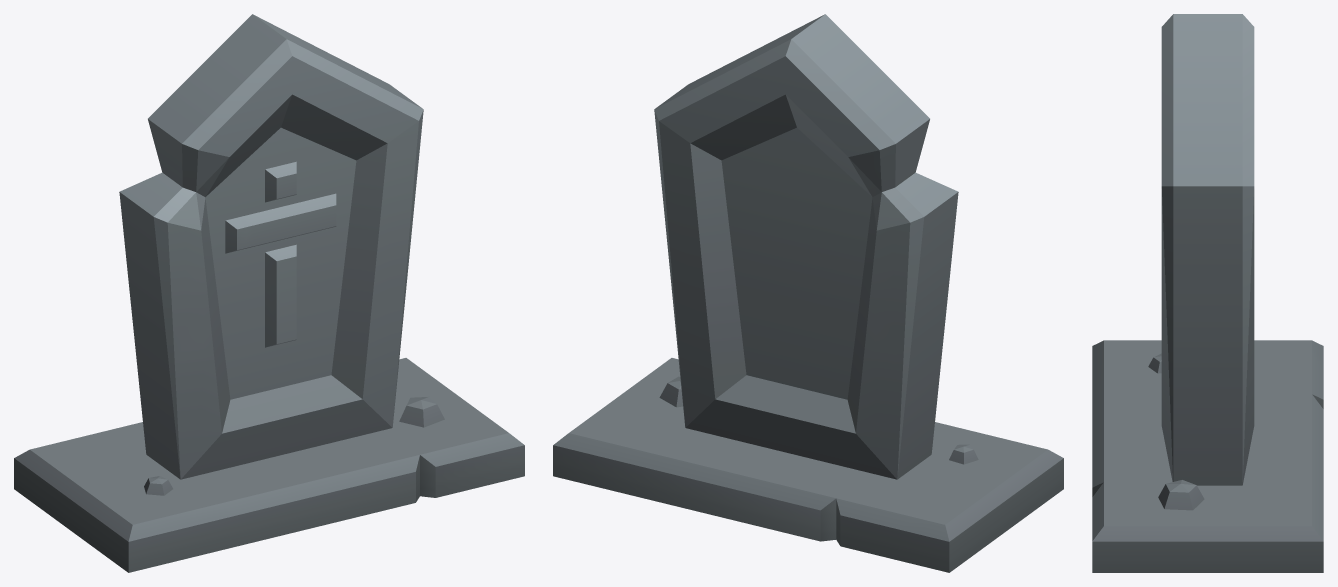
The model's file is d_kaykit_tombe_large.glb.
3 renders of one model, left to right at view 1: azimuth 30°, elevation 25°; view 2: azimuth 150°, elevation 25°; view 3: azimuth 270°, elevation 25°, orthographic.
Parts seen in each view (by area): view 1: d_kaykit_tombe_large; view 2: d_kaykit_tombe_large; view 3: d_kaykit_tombe_large.
Part boxes in pixels (x1,y1,x2,y2): d_kaykit_tombe_large: (14, 14, 524, 572); d_kaykit_tombe_large: (553, 14, 1063, 572); d_kaykit_tombe_large: (1092, 14, 1323, 572).
Size of the model in its own units: 2 by 2.2 by 0.9999.
Materials: 1 (1 with a texture image).
